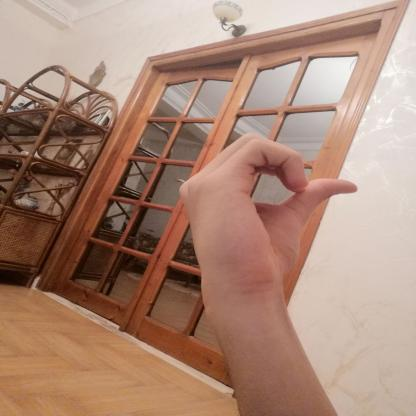WAW: (163, 127, 370, 313)
